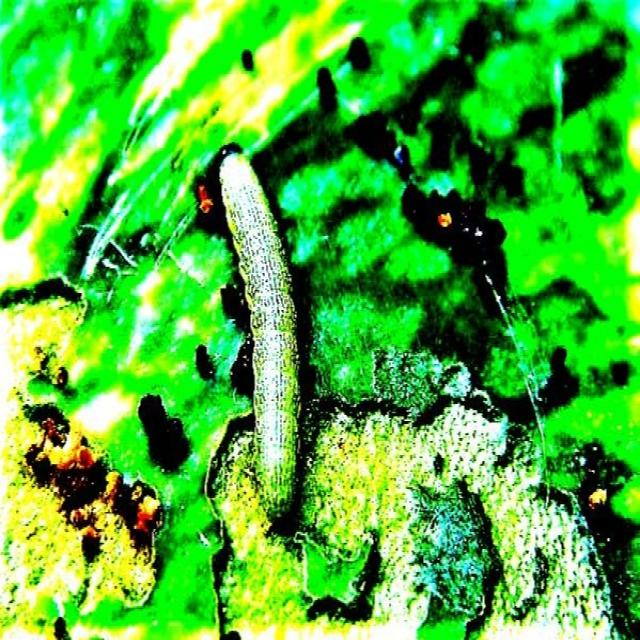Armyworm: (206, 129, 327, 539)
